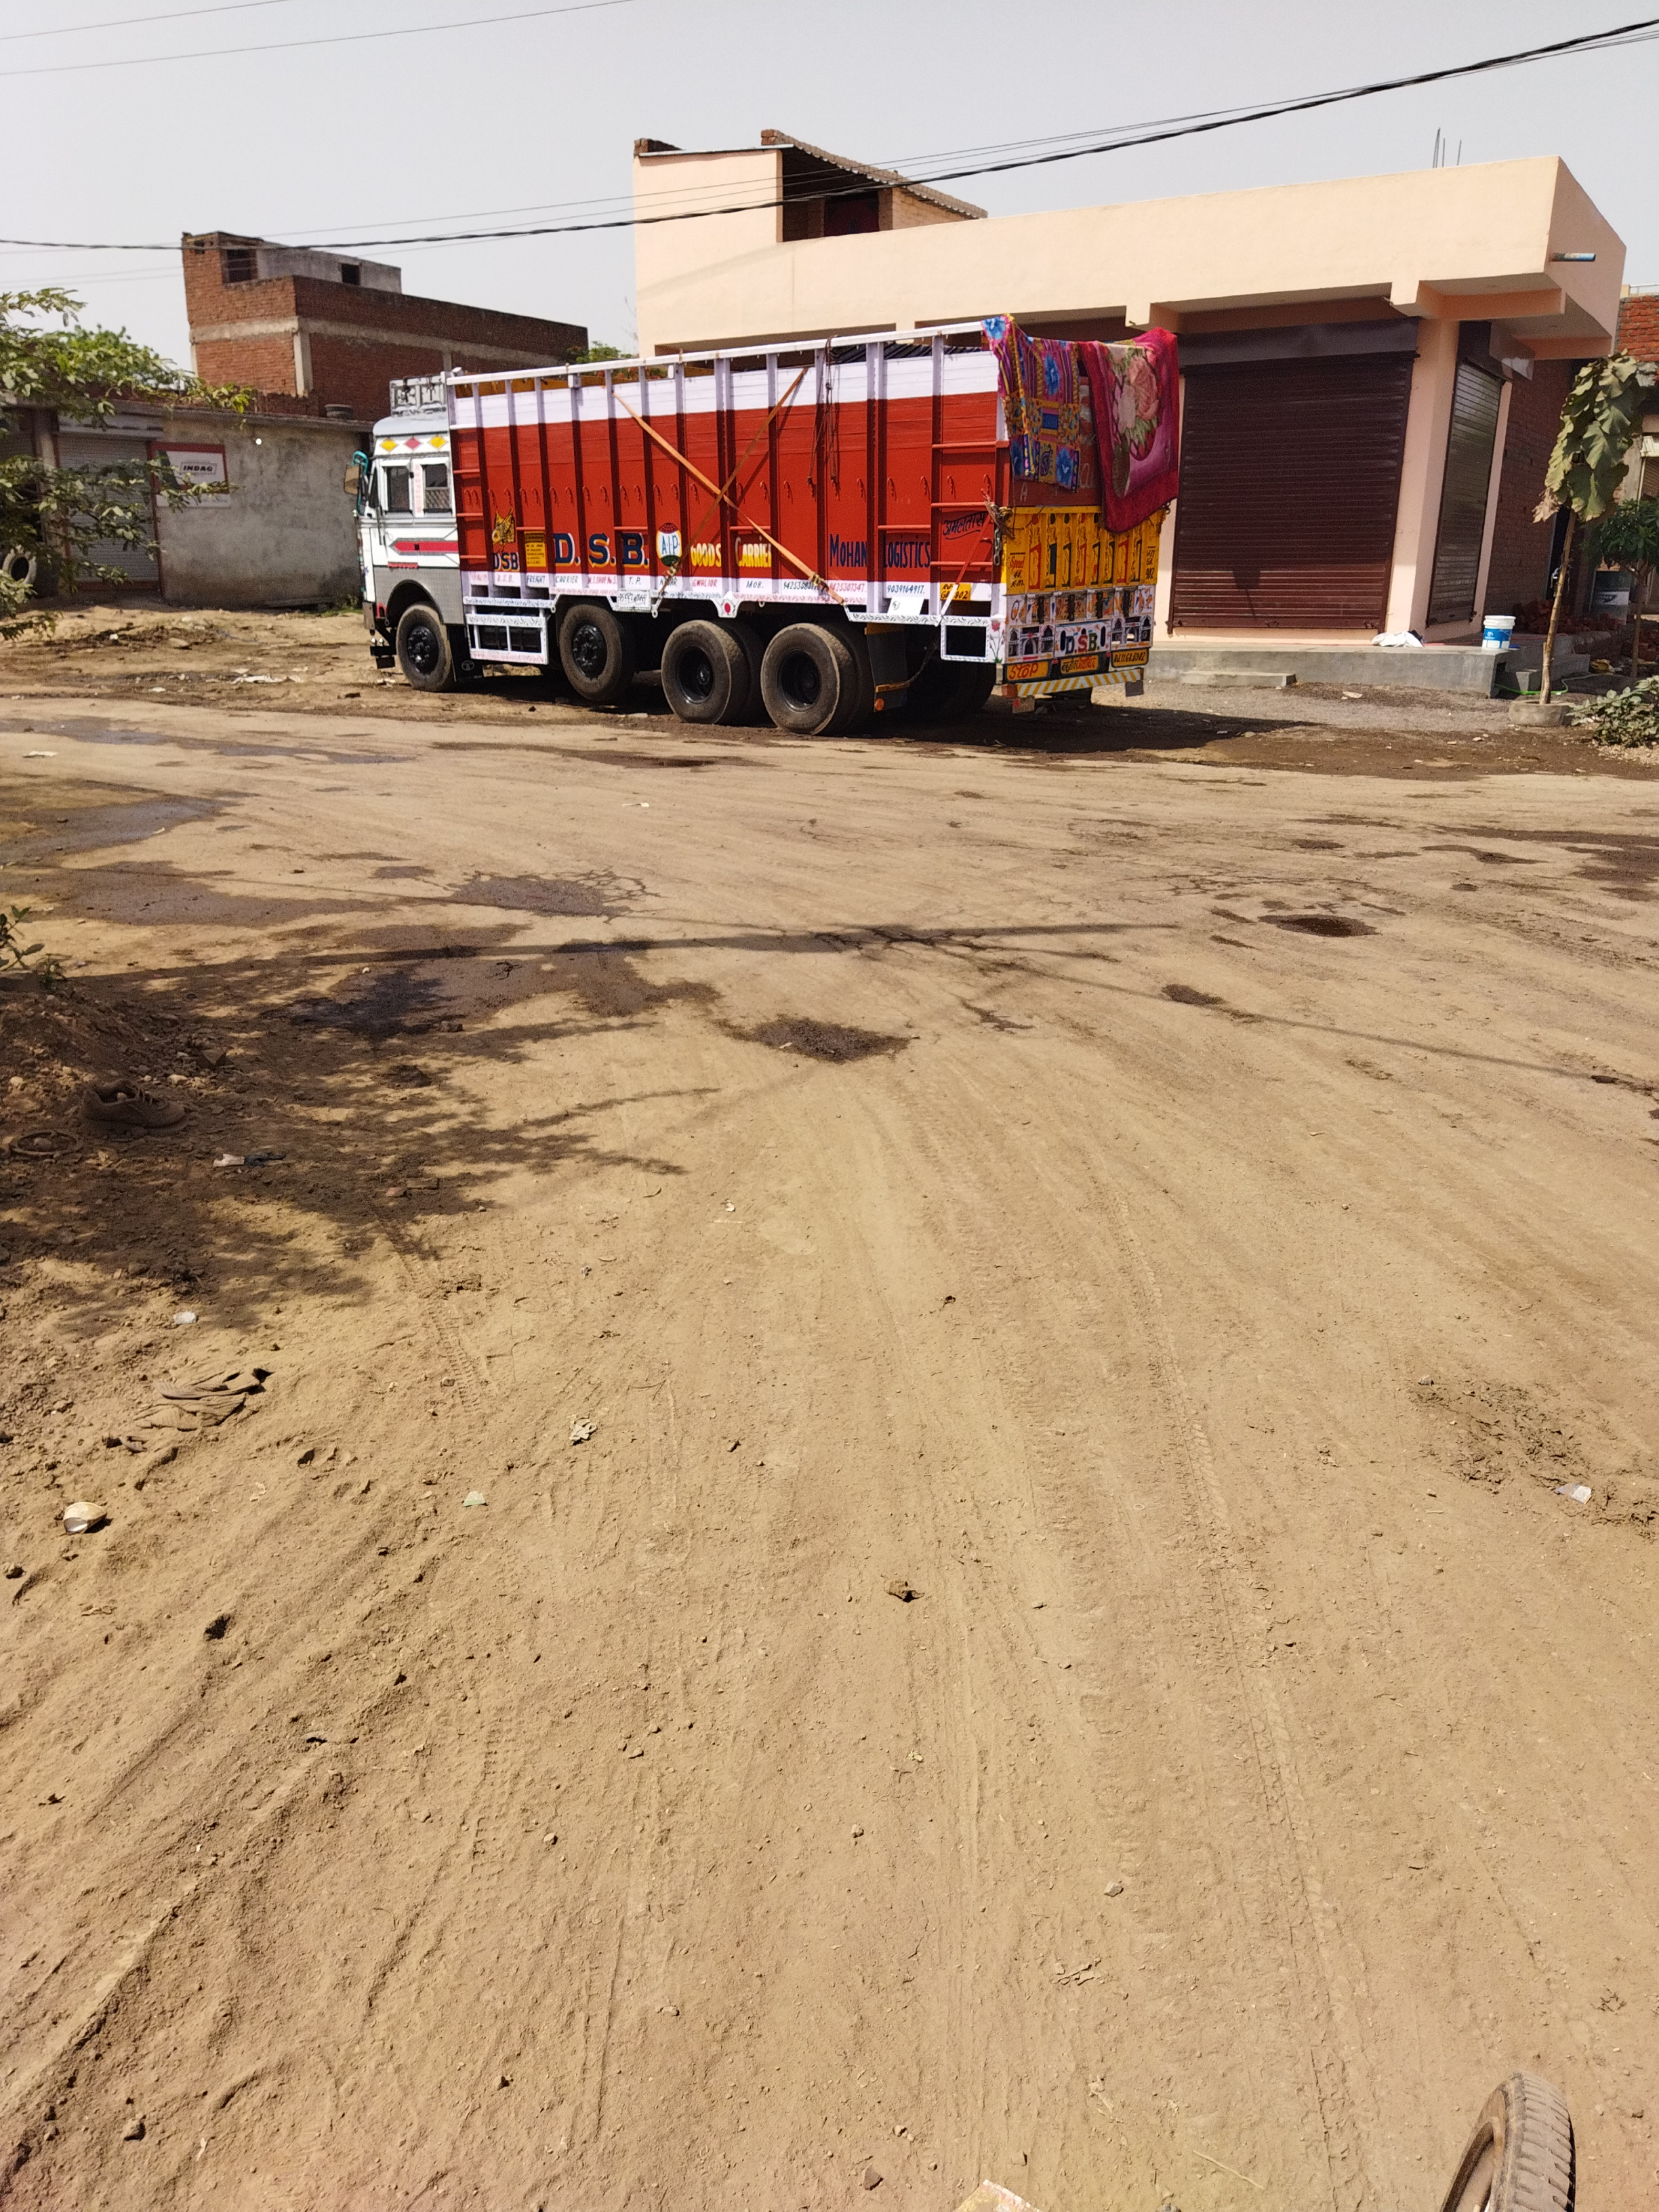truck: (342, 308, 1183, 738)
